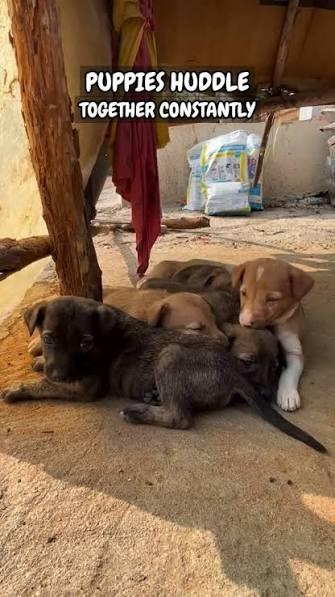puppy-dog: (4, 296, 329, 454), (135, 259, 283, 398), (230, 257, 315, 413), (101, 285, 236, 351)
